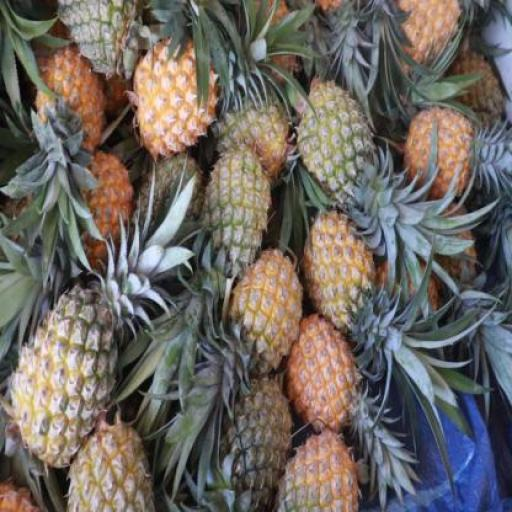------------------------------: (14, 254, 129, 472), (300, 84, 390, 219), (190, 148, 275, 284), (215, 91, 295, 180)
Pineapple - v8 v1: (301, 209, 409, 349), (285, 318, 378, 438), (129, 46, 224, 152), (233, 241, 305, 372), (411, 108, 511, 194), (36, 50, 101, 181)
